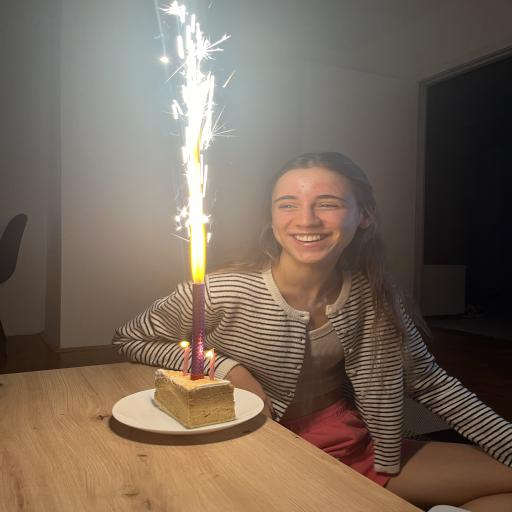masa: (275, 168, 362, 262)
